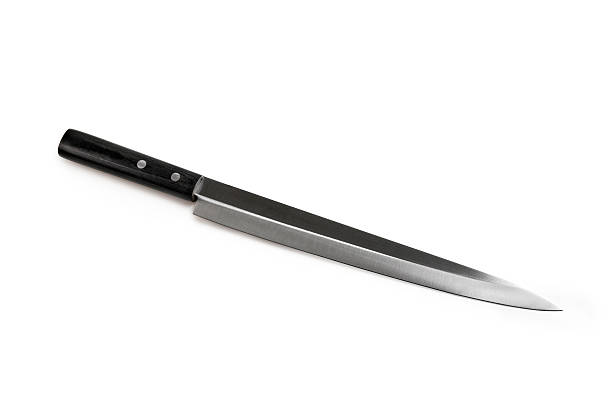knife: (55, 127, 566, 314)
